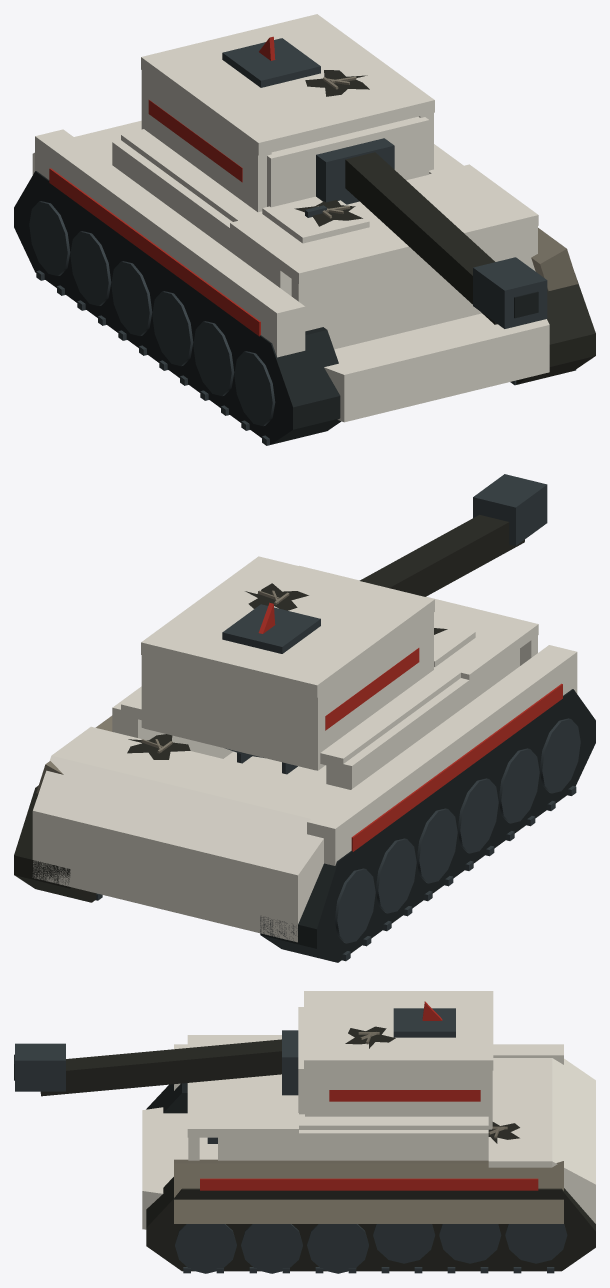
3 views of the same model, one above another, from view 1: azimuth 30°, elevation 25°; view 2: azimuth 150°, elevation 25°; view 3: azimuth 270°, elevation 25° (orthographic). The views are drawn at different scales.
Visible parts, largest first — view 1: tank-damaged-fleet-armor, turret-fleet-armor, tank-damaged-fleet-rubber, tank-damaged-fleet-machine, barrel-fleet-damage-charred, barrel-fleet-machine, tank-damaged-fleet-damage-charred, tank-damaged-fleet-red, turret-fleet-machine, tank-damaged-fleet-damage-metal, turret-fleet-red; view 2: tank-damaged-fleet-armor, turret-fleet-armor, tank-damaged-fleet-rubber, tank-damaged-fleet-machine, barrel-fleet-damage-charred, tank-damaged-fleet-damage-charred, tank-damaged-fleet-red, barrel-fleet-machine, turret-fleet-machine, turret-fleet-red, tank-damaged-fleet-damage-metal; view 3: tank-damaged-fleet-armor, turret-fleet-armor, tank-damaged-fleet-damage-metal, tank-damaged-fleet-machine, tank-damaged-fleet-damage-charred, barrel-fleet-damage-charred, tank-damaged-fleet-red, barrel-fleet-machine, turret-fleet-red, turret-fleet-machine, tank-damaged-fleet-rubber.
Boxes of the visible parts, x1,y1,x2,y2 form: tank-damaged-fleet-armor: (32,120,549,422); turret-fleet-armor: (141,14,434,212); tank-damaged-fleet-rubber: (14,171,341,444); tank-damaged-fleet-machine: (29,201,576,445); barrel-fleet-damage-charred: (345,152,497,324); barrel-fleet-machine: (316,138,547,328); tank-damaged-fleet-damage-charred: (294,70,595,384); tank-damaged-fleet-red: (49,168,260,336); turret-fleet-machine: (222,38,320,87); tank-damaged-fleet-damage-metal: (317,76,577,290); turret-fleet-red: (148,36,275,182); tank-damaged-fleet-armor: (32,565,577,942); turret-fleet-armor: (141,556,434,770); tank-damaged-fleet-rubber: (260,689,595,962); tank-damaged-fleet-machine: (95,718,580,961); barrel-fleet-damage-charred: (359,514,524,596); tank-damaged-fleet-damage-charred: (14,583,447,902); tank-damaged-fleet-red: (351,683,562,851); barrel-fleet-machine: (473,474,547,545); turret-fleet-machine: (222,604,320,653); turret-fleet-red: (258,602,419,730); tank-damaged-fleet-damage-metal: (36,590,289,793); tank-damaged-fleet-armor: (142,1035,595,1229); turret-fleet-armor: (298,991,493,1129); tank-damaged-fleet-damage-metal: (174,1032,563,1223); tank-damaged-fleet-machine: (175,1224,567,1273); tank-damaged-fleet-damage-charred: (146,1026,595,1271); barrel-fleet-damage-charred: (40,1039,281,1096); tank-damaged-fleet-red: (200,1178,538,1190); barrel-fleet-machine: (15,1030,298,1095); turret-fleet-red: (329,1001,480,1101); turret-fleet-machine: (393,1008,455,1037); tank-damaged-fleet-rubber: (146,1083,187,1113).
Bounding box in the file's own units: 21.41 × 17.08 × 42.63.
